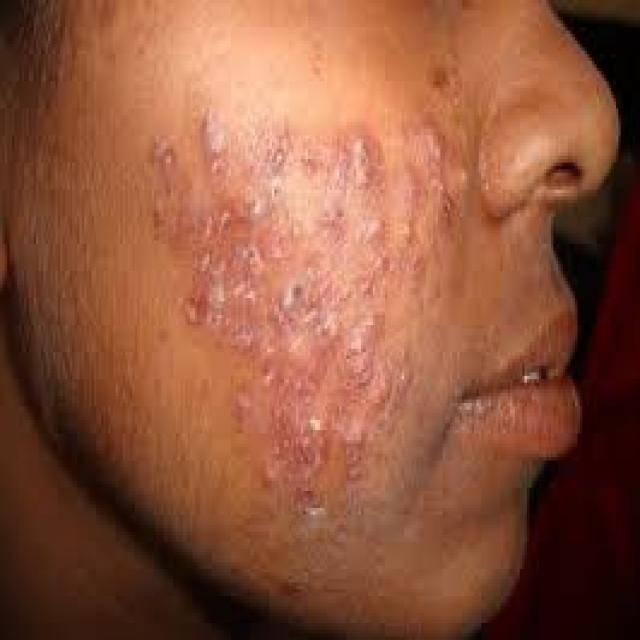Acne: (135, 89, 448, 544)
